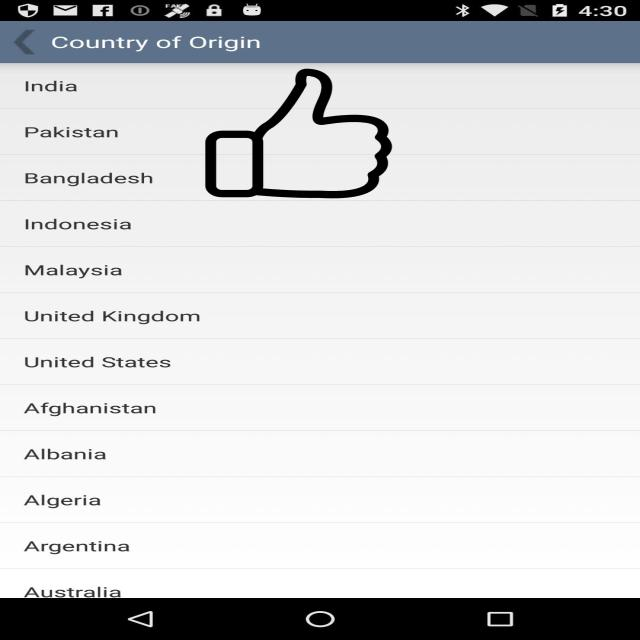privacy zuckering: (202, 69, 394, 198)
